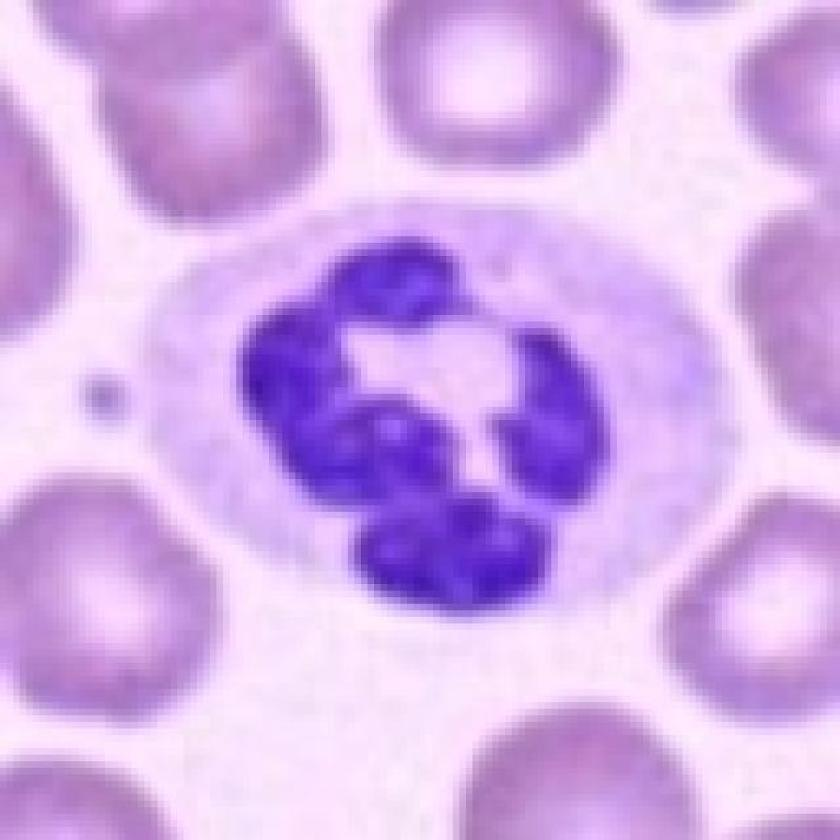neutrophil: (164, 138, 684, 682)
